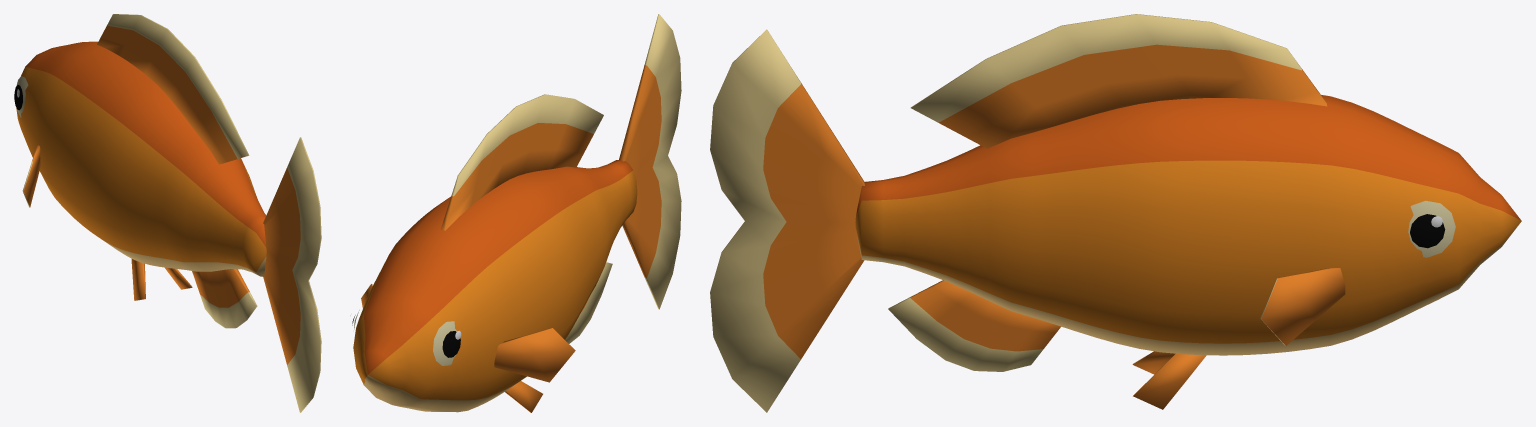
Rendered from goldfish.glb.
3 views of the same model, side by side, from view 1: azimuth 30°, elevation 25°; view 2: azimuth 150°, elevation 25°; view 3: azimuth 270°, elevation 25° (orthographic). The views are drawn at different scales.
Visible parts, largest first — view 1: goldfish; view 2: goldfish; view 3: goldfish.
Part boxes in pixels (x1,y1,x2,y2): goldfish: (14, 14, 321, 412); goldfish: (350, 14, 681, 412); goldfish: (710, 14, 1521, 412).
Bounding box in the file's own units: 0.8542 × 1.17 × 2.16.
